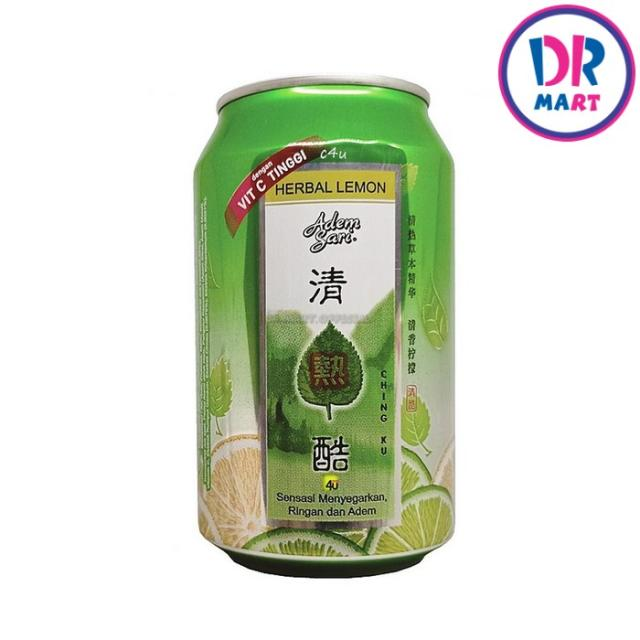ademsarikaleng: (191, 73, 457, 579)
